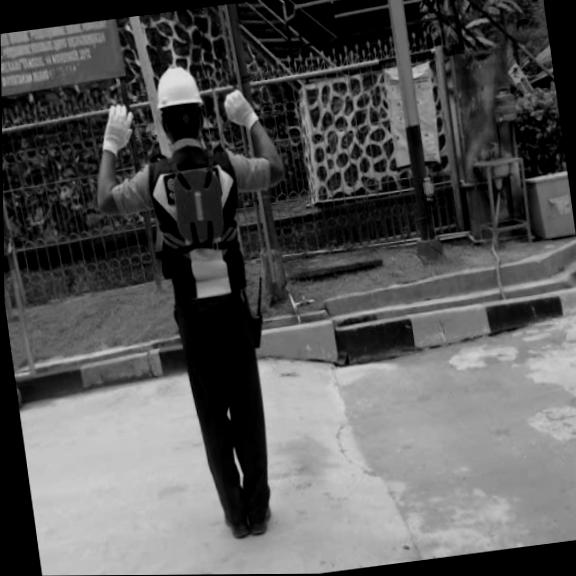safety_vest: (167, 156, 232, 253)
